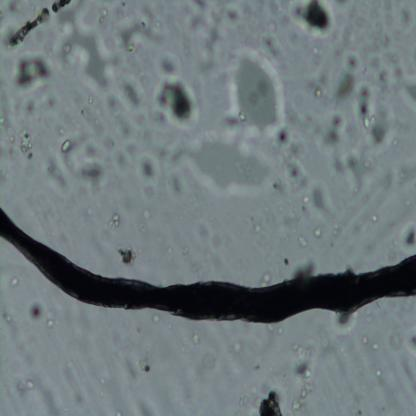Background material: (164, 135, 274, 193), (224, 52, 289, 143), (72, 88, 138, 165), (56, 9, 112, 88), (152, 54, 198, 131), (7, 0, 70, 48), (358, 72, 394, 152), (184, 0, 238, 47), (365, 20, 406, 79), (279, 115, 319, 166), (118, 12, 166, 50), (289, 1, 334, 38), (290, 345, 315, 410), (13, 84, 60, 118), (8, 53, 53, 86), (254, 203, 297, 236), (336, 50, 360, 109), (72, 157, 106, 194), (332, 154, 374, 182), (60, 358, 84, 406), (11, 120, 38, 157), (124, 388, 159, 416), (35, 378, 59, 416), (376, 162, 408, 189), (259, 32, 284, 66), (301, 184, 330, 213), (137, 155, 161, 188), (256, 388, 284, 415), (284, 155, 306, 189), (325, 110, 343, 150), (112, 241, 137, 268), (25, 294, 46, 326), (330, 311, 358, 335), (400, 219, 416, 256), (120, 80, 142, 106), (307, 72, 327, 100), (400, 73, 416, 106), (0, 84, 11, 130), (399, 0, 415, 30), (15, 373, 37, 394), (228, 333, 242, 364), (140, 209, 154, 240), (104, 209, 121, 232), (236, 388, 252, 409), (364, 208, 380, 229), (390, 330, 404, 352), (362, 304, 378, 322), (137, 357, 152, 376), (44, 310, 58, 330), (312, 46, 323, 69), (58, 138, 72, 156), (330, 221, 340, 245), (260, 270, 273, 288), (373, 366, 385, 385), (264, 20, 280, 34), (1, 310, 13, 328), (297, 231, 308, 250), (316, 333, 329, 349), (408, 330, 416, 354), (190, 331, 202, 347), (358, 334, 371, 348), (267, 323, 282, 335), (203, 355, 215, 369), (312, 227, 322, 243), (110, 405, 124, 416), (9, 276, 20, 289), (151, 313, 161, 327), (370, 340, 381, 352), (96, 374, 107, 386), (392, 136, 398, 146)
Cotton: (0, 197, 416, 328)
